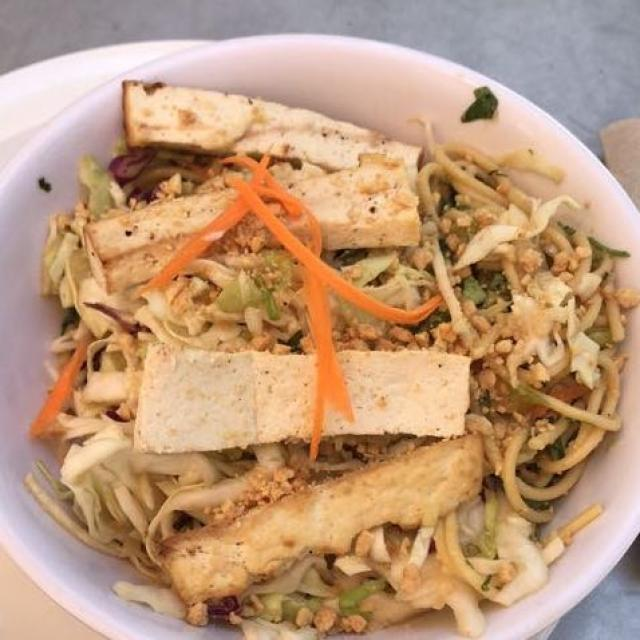tofu: (76, 90, 519, 608)
